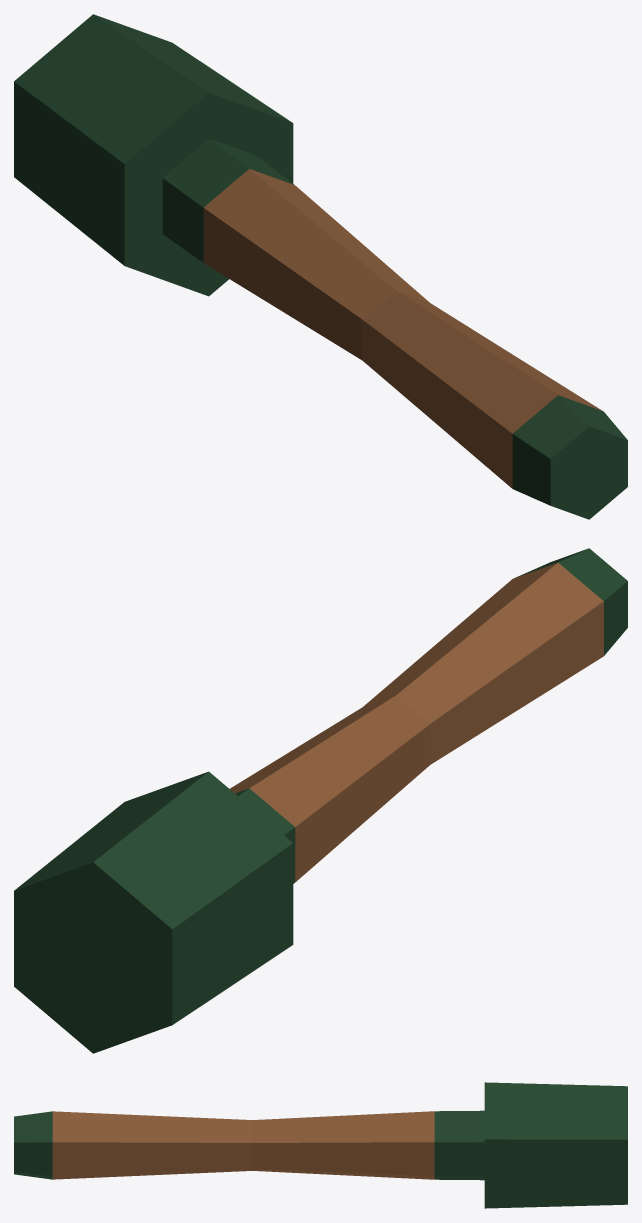
The model's file is stick-grenade.glb.
The picture shows the model from 3 angles, top to bottom: view 1: azimuth 30°, elevation 25°; view 2: azimuth 150°, elevation 25°; view 3: azimuth 270°, elevation 25°; orthographic projection. The views are drawn at different scales.
Visible parts, largest first — view 1: stick-grenade; view 2: stick-grenade; view 3: stick-grenade.
Boxes of the visible parts, <box> form: stick-grenade: <box>14,14,627,519</box>; stick-grenade: <box>14,548,627,1053</box>; stick-grenade: <box>14,1082,627,1208</box>.
Bounding box in the file's own units: 0.0709 × 0.0818 × 0.3613.
Materials: 1 (1 with a texture image).
